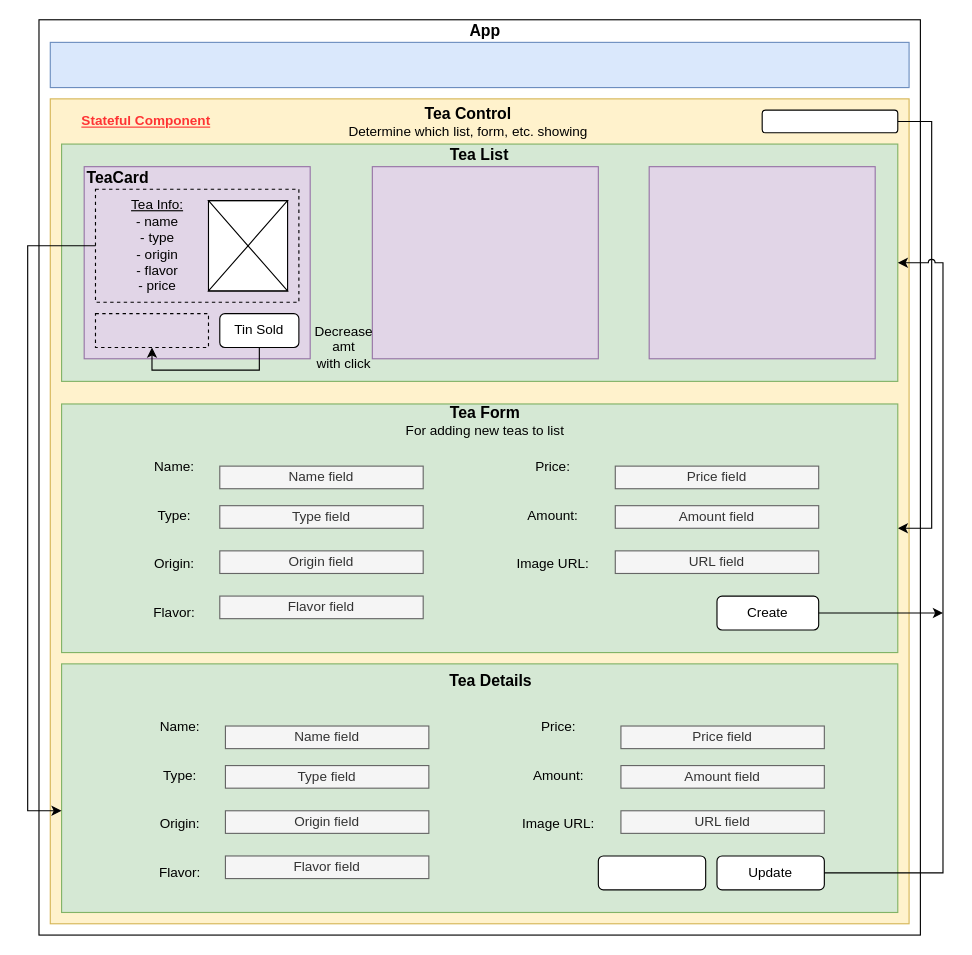
Some shapes in this 972 by 955 pixel diagram are drawn without their labels. The shapes that lost their labels are listed below. From the top down, each one's box as (x1, y1, x2, y2) in pixels, then its label:
(49, 41, 909, 88): Header
(761, 109, 898, 133): Add Tea
(207, 199, 288, 291): image
(94, 312, 208, 347): amount
(597, 855, 706, 890): Delete
